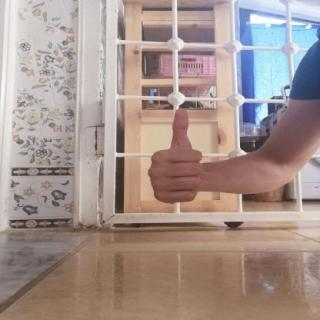ALIF: (134, 101, 216, 210)
